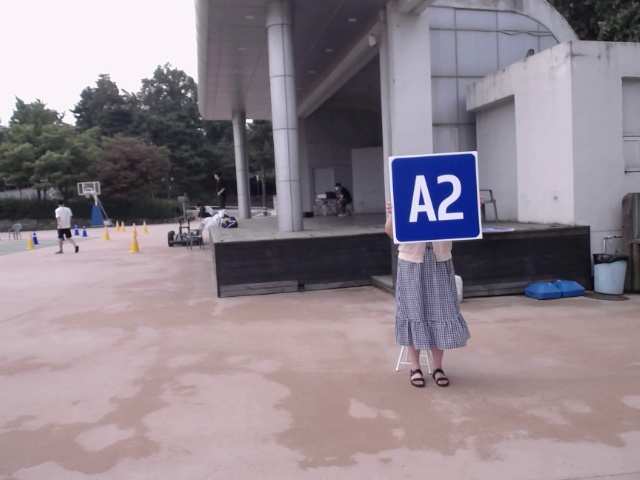delivery_a2: (390, 151, 482, 243)
